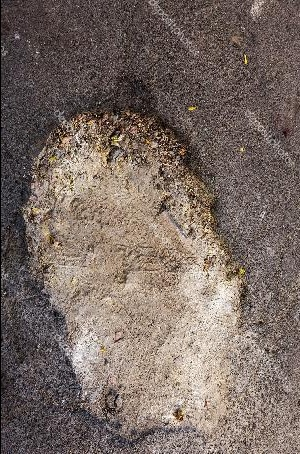pothole: (18, 72, 259, 453)
